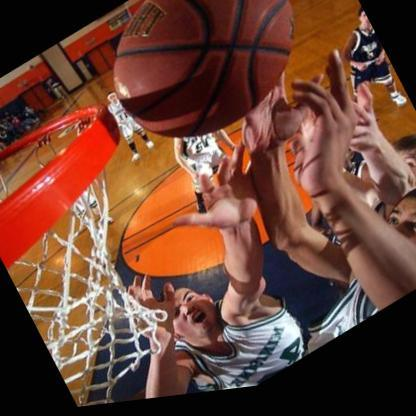basketball: (83, 0, 326, 183)
rim: (0, 88, 149, 273)
